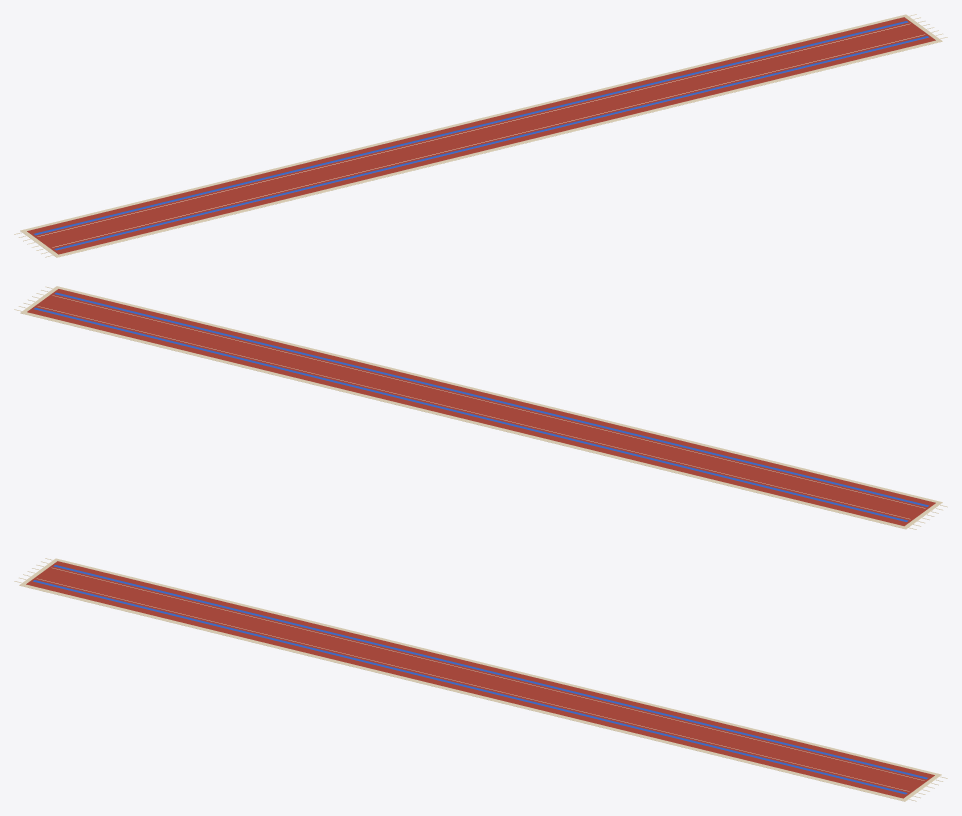
Rendered from welt_laeufer.glb.
3 renders of one model, top to bottom at view 1: azimuth 30°, elevation 25°; view 2: azimuth 150°, elevation 25°; view 3: azimuth 330°, elevation 25°, orthographic.
Visible parts, largest first — view 1: welt_laeufer; view 2: welt_laeufer; view 3: welt_laeufer.
Part boxes in pixels (x1,y1,x2,y2): welt_laeufer: [14, 14, 947, 257]; welt_laeufer: [14, 286, 947, 529]; welt_laeufer: [14, 558, 947, 801].
Bounding box in the file's own units: 21.18 × 0.018 × 1.5.
